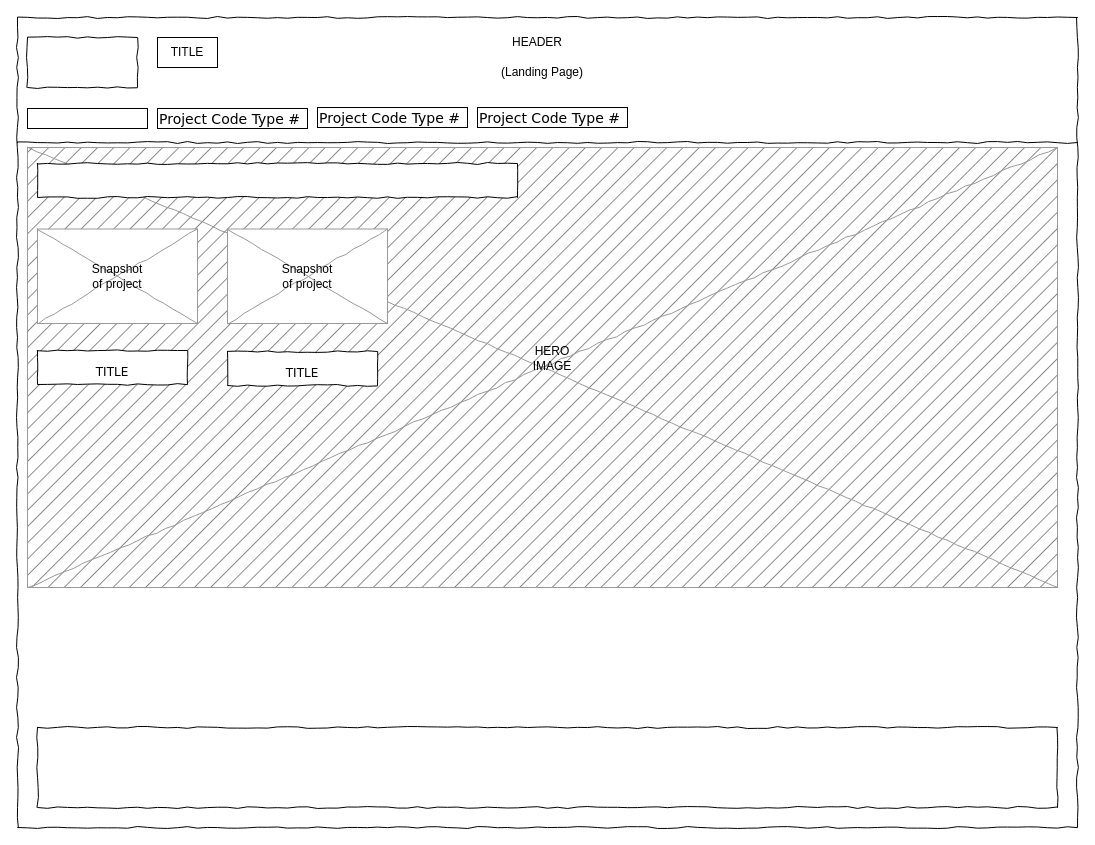
Image size: 1095x845. Some labels were removed from this diagram. Each missing label, with the centre of its shape:
FOOTER: (x=547, y=767)
LOGO: (x=82, y=62)
My Projects Overview: (x=277, y=180)
Projects (home): (x=87, y=118)
